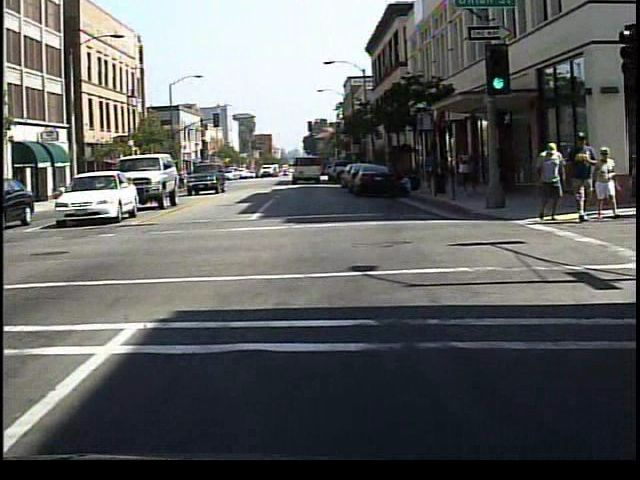person: (531, 140, 569, 230), (568, 129, 597, 227), (590, 143, 618, 227), (450, 145, 478, 201), (175, 167, 192, 196)
